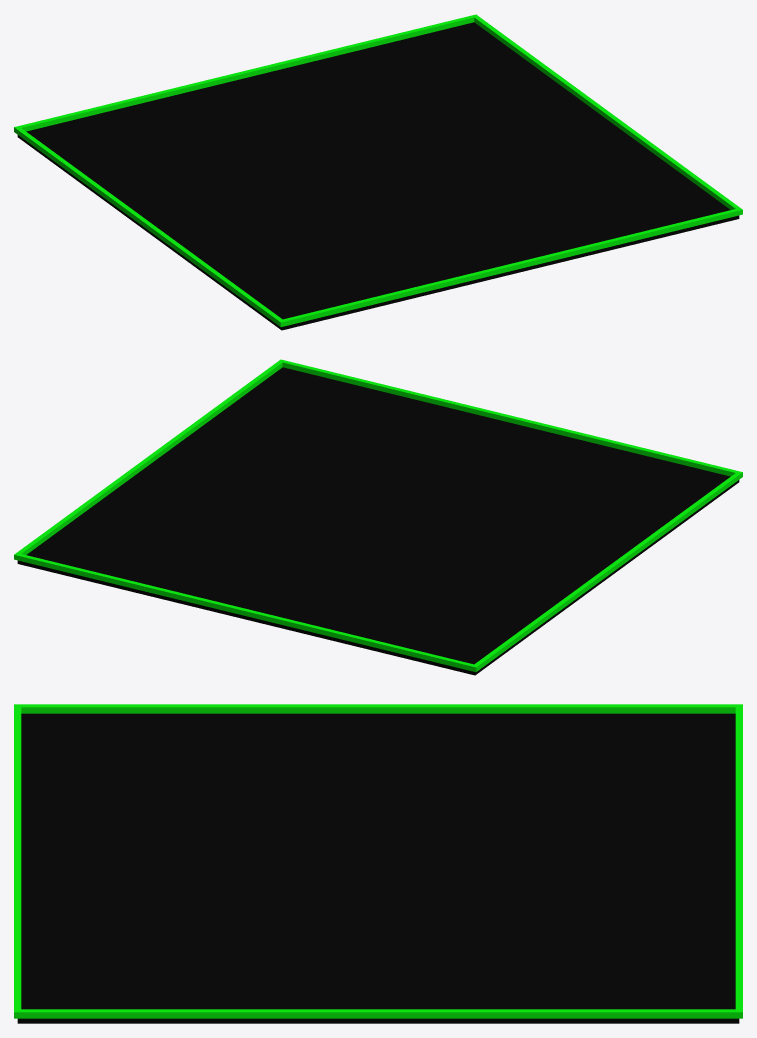
File: Bounds.glb
3 views of the same model, one above another, from view 1: azimuth 30°, elevation 25°; view 2: azimuth 150°, elevation 25°; view 3: azimuth 270°, elevation 25° (orthographic). The views are drawn at different scales.
Parts seen in each view (by area): view 1: Cube.004, Cube.003, Cube.002, Cube, Cube.001; view 2: Cube.004, Cube.002, Cube.003, Cube, Cube.001; view 3: Cube.004, Cube.001, Cube, Cube.003, Cube.002.
Part boxes in pixels (x1=…): Cube.004: x1=17, y1=22, x2=739, y2=330; Cube.003: x1=281, y1=208, x2=740, y2=326; Cube.002: x1=19, y1=15, x2=474, y2=131; Cube: x1=14, y1=126, x2=282, y2=326; Cube.001: x1=472, y1=14, x2=742, y2=215; Cube.004: x1=17, y1=367, x2=739, y2=675; Cube.002: x1=16, y1=554, x2=475, y2=670; Cube.003: x1=281, y1=360, x2=739, y2=476; Cube: x1=471, y1=471, x2=742, y2=671; Cube.001: x1=14, y1=359, x2=284, y2=559; Cube.004: x1=17, y1=713, x2=739, y2=1023; Cube.001: x1=14, y1=1009, x2=742, y2=1018; Cube: x1=14, y1=704, x2=742, y2=713; Cube.003: x1=14, y1=705, x2=21, y2=1010; Cube.002: x1=735, y1=707, x2=742, y2=1010.
Bounding box in the file's own units: 202 × 4 × 202.
